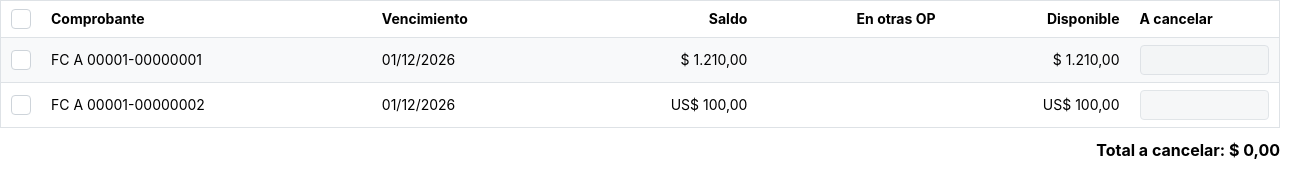
Test case: SelectorComprobantes › suma en pesos con la cotización y avisa si se supera el disponible
Click the checkbox named "Seleccionar todos" at (21, 19), box [11, 9, 31, 29]
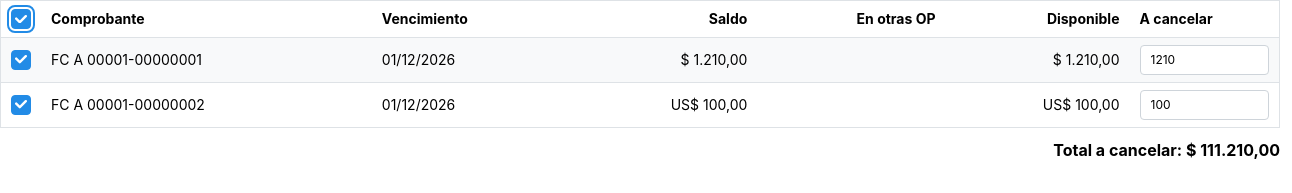
Check: the text with test id "total-cancelar" shows "$ 111.210,00", box [1186, 140, 1280, 160]
Replace the text in the field named "Importe a cancelar" in the row of "FC A 00001-00000001" with "2000" at (1204, 60), box [1140, 45, 1269, 75]
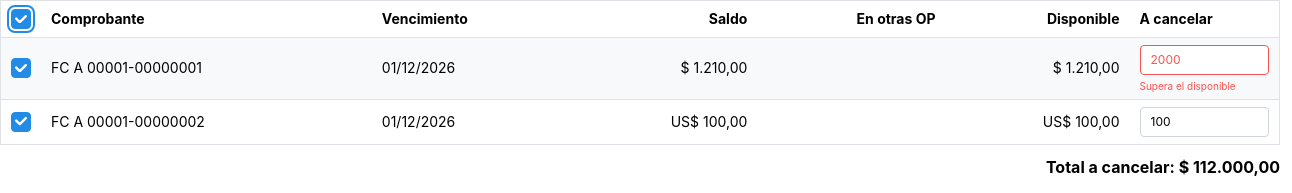
Check: the text "Supera el disponible" is shown, box [1140, 80, 1236, 92]
